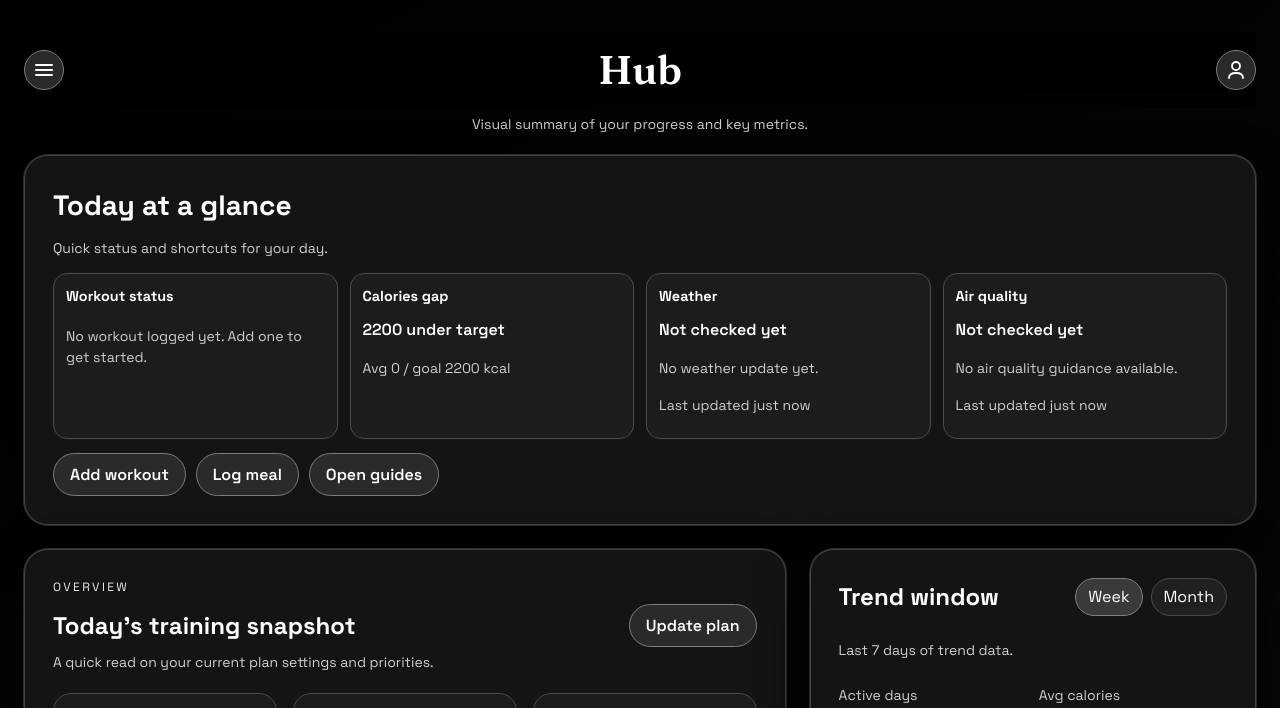
it: Dashboard integration flows › opens the dashboard drawer from header button
The width and height of the screenshot is (1280, 708).
Step 1. Click the button named "open dashboard menu" → (44, 70), box [24,50,64,90]
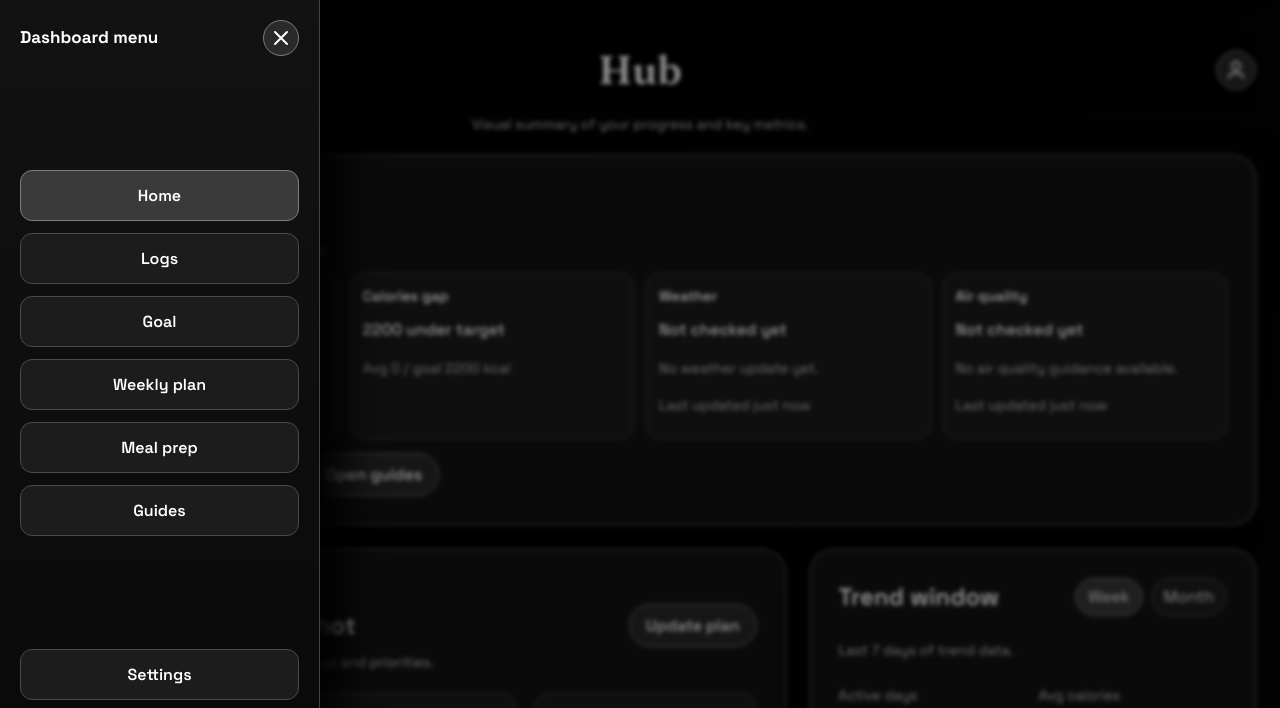
Result: the heading "Dashboard menu" is shown at [20,25,158,51]
